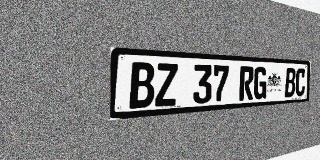3: (193, 64, 212, 104)
7: (212, 65, 229, 103)
B: (129, 62, 155, 109), (284, 68, 296, 97)
C: (295, 68, 306, 97)
G: (253, 67, 267, 100)
R: (239, 66, 254, 101)
Z: (155, 63, 178, 107)
